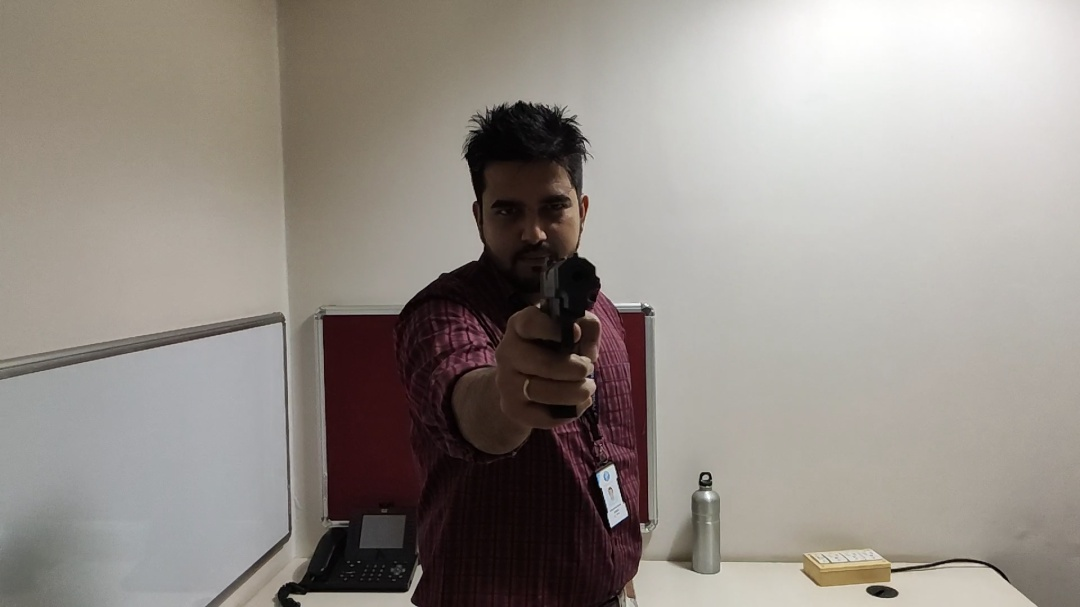gun: (528, 250, 615, 428)
